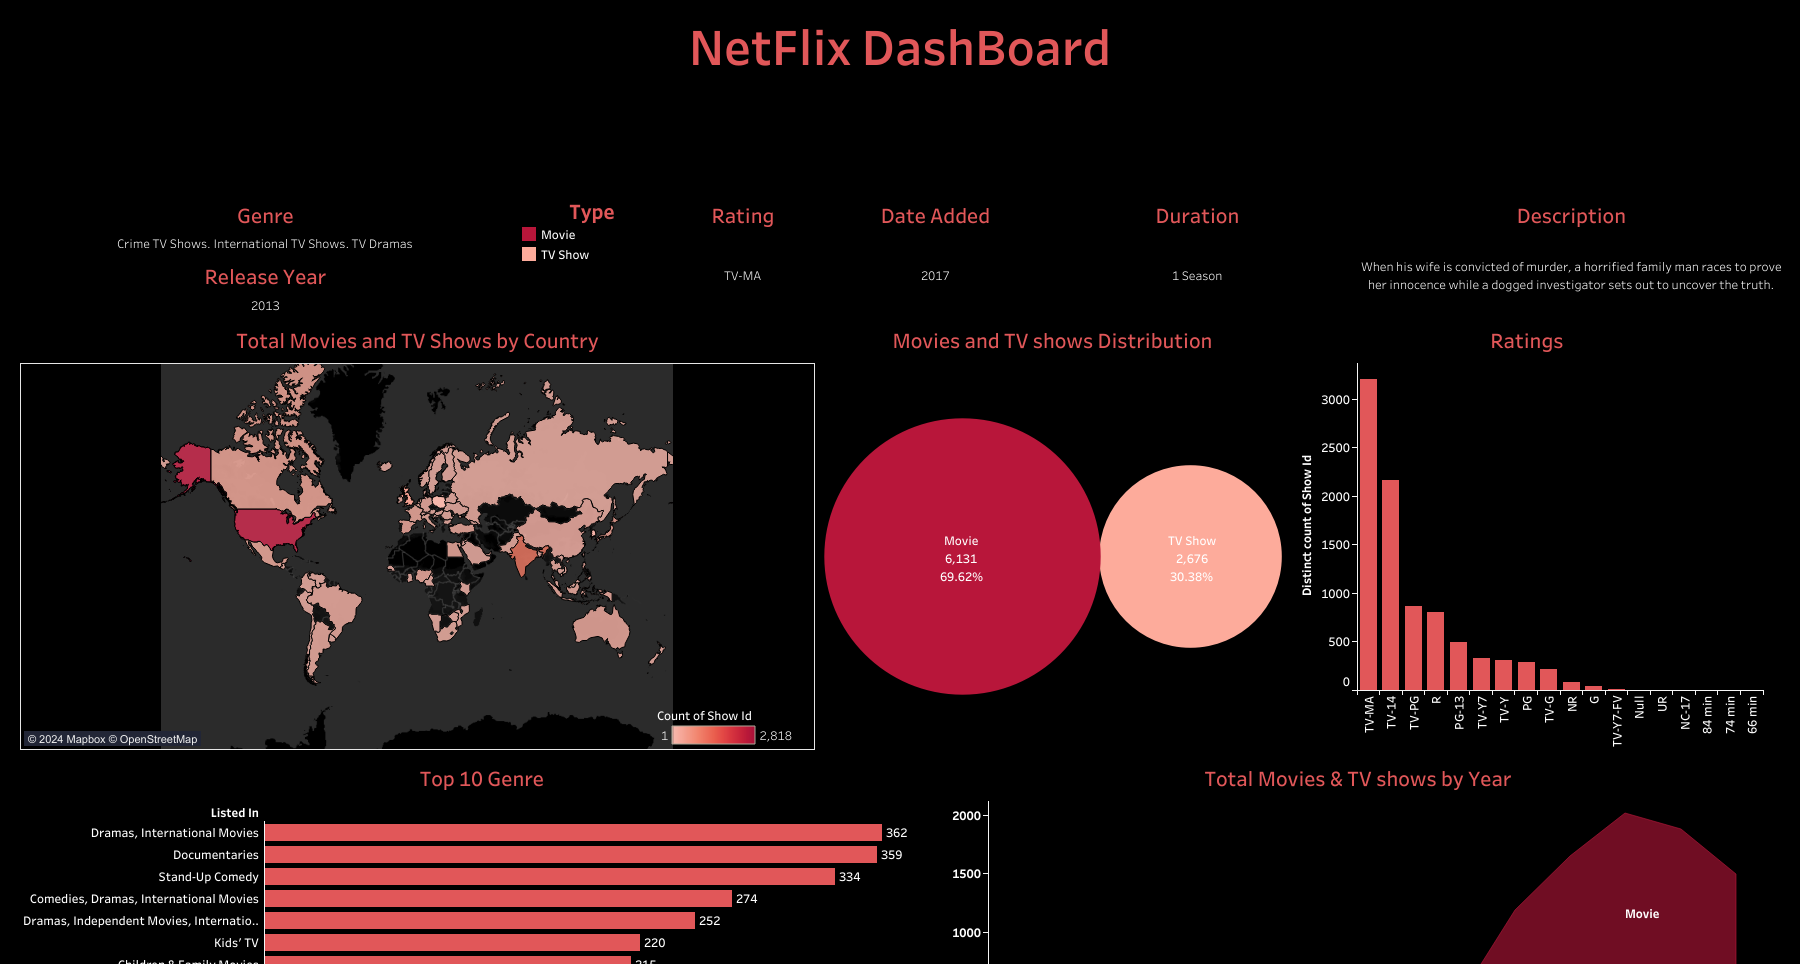

What the dashboard file says about the page in this screenshot:
{"tool":"tableau","page":{"name":"Netflix","canvas":[1800,900],"ordinal":0},"visuals":[{"type":"worksheet","title":"Genre","mark":"Automatic","box":[8,8,499,61]},{"type":"legend","title":"movies and TV shows distribyution","param":"[federated.0dyvnp810c55j319gh98j0l34yz6].[none:type:nk]","box":[507,8,152,125]},{"type":"worksheet","title":"Rating","mark":"Automatic","box":[659,8,152,125]},{"type":"worksheet","title":"Data Added","mark":"Automatic","box":[811,8,233,125]},{"type":"worksheet","title":"Duration","mark":"Automatic","box":[1044,8,291,125]},{"type":"worksheet","title":"Description","mark":"Automatic","box":[1335,8,457,125]},{"type":"worksheet","title":"Release Year","mark":"Automatic","box":[8,69,499,64]},{"type":"worksheet","title":"Total movies and TV shows by country","mark":"Multipolygon","box":[8,133,803,437.7]},{"type":"worksheet","title":"movies and TV shows distribyution","mark":"Circle","box":[811,133,467,437.7]},{"type":"worksheet","title":"Ratings","mark":"Automatic","rows":["show_id"],"cols":["rating"],"box":[1278,133,482,437.7]},{"type":"filter","title":"Description","param":"[federated.0dyvnp810c55j319gh98j0l34yz6].[none:title:nk]","box":[1760,133,32,52]},{"type":"filter","title":"Description","param":"[federated.0dyvnp810c55j319gh98j0l34yz6].[none:type:nk]","box":[1760,185,32,52]},{"type":"legend","title":"Total movies and TV shows by country","param":"[federated.0dyvnp810c55j319gh98j0l34yz6].[cnt:show_id:qk]","box":[649,519,140,76]},{"type":"worksheet","title":"Top 10 genres","mark":"Automatic","rows":["listed_in"],"cols":["show_id"],"box":[8,570.7,932,321.3]},{"type":"worksheet","title":"Total Movies & TV shows by year","mark":"Area","rows":["show_id"],"cols":["date_added"],"box":[940,570.7,820,321.3]}]}

Visuals, with their boxes on the page's 1800x900 design canvas (x1, y1, x2, y2). These are canvas units, not pixel positions in the 1800x964 screenshot, which may show the page scaled, cropped or inside an application window:
"Genre" worksheet: [8, 8, 507, 69]
"movies and TV shows distribyution" legend: [507, 8, 659, 133]
"Rating" worksheet: [659, 8, 811, 133]
"Data Added" worksheet: [811, 8, 1044, 133]
"Duration" worksheet: [1044, 8, 1335, 133]
"Description" worksheet: [1335, 8, 1792, 133]
"Release Year" worksheet: [8, 69, 507, 133]
"Total movies and TV shows by country" worksheet (Multipolygon marks): [8, 133, 811, 571]
"movies and TV shows distribyution" worksheet (Circle marks): [811, 133, 1278, 571]
"Ratings" worksheet: [1278, 133, 1760, 571]
"Description" filter: [1760, 133, 1792, 185]
"Description" filter: [1760, 185, 1792, 237]
"Total movies and TV shows by country" legend: [649, 519, 789, 595]
"Top 10 genres" worksheet: [8, 571, 940, 892]
"Total Movies & TV shows by year" worksheet (Area marks): [940, 571, 1760, 892]
